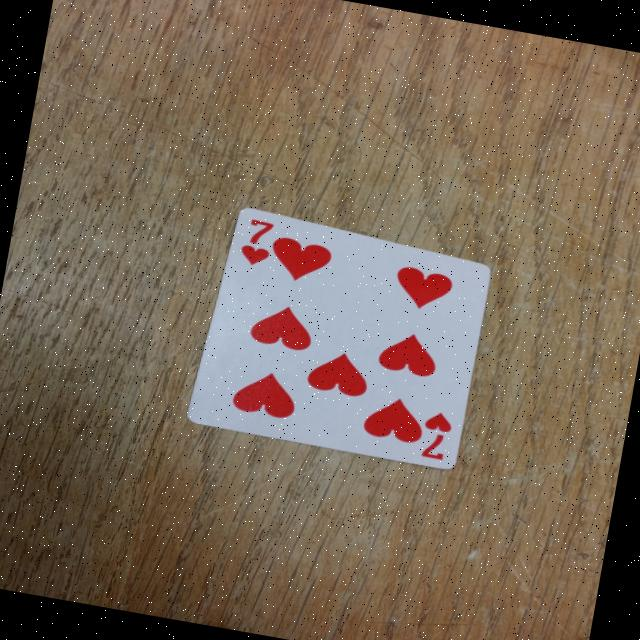7h: (227, 207, 290, 275), (402, 403, 464, 468)
